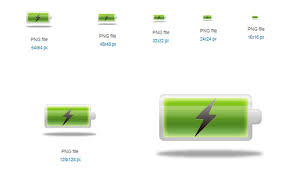charging sign: (147, 75, 269, 150), (46, 79, 103, 138)
